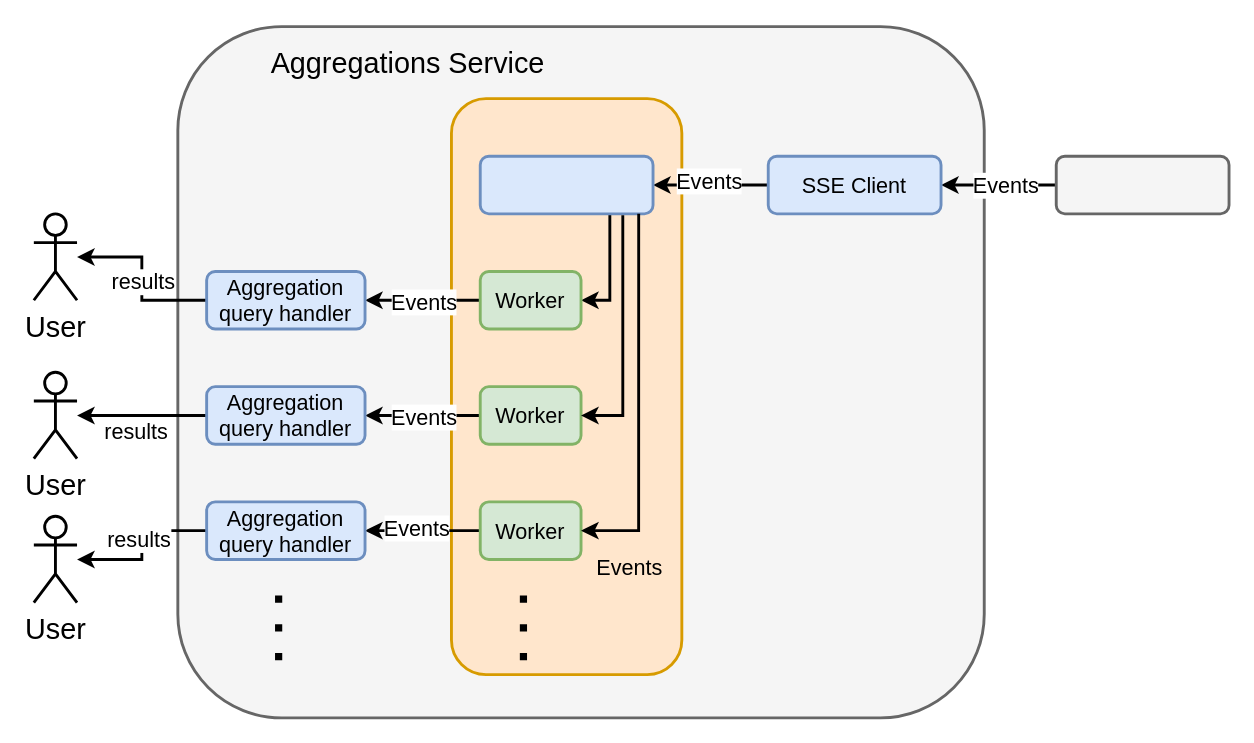
This 1254x743 diagram has some shape labels left out. The centre of each missing label's shape, as x and y in pixels:
Broadcast Service: [566,184]
Upfluence SSE api: [1142,184]
